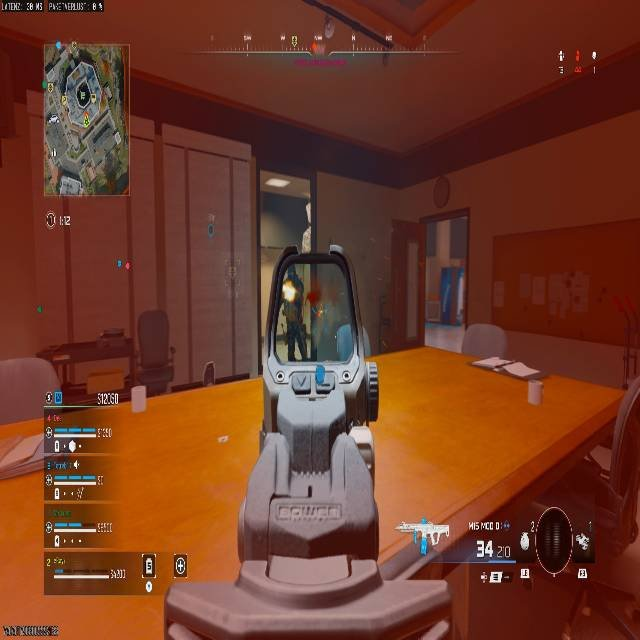player: (276, 266, 315, 362)
